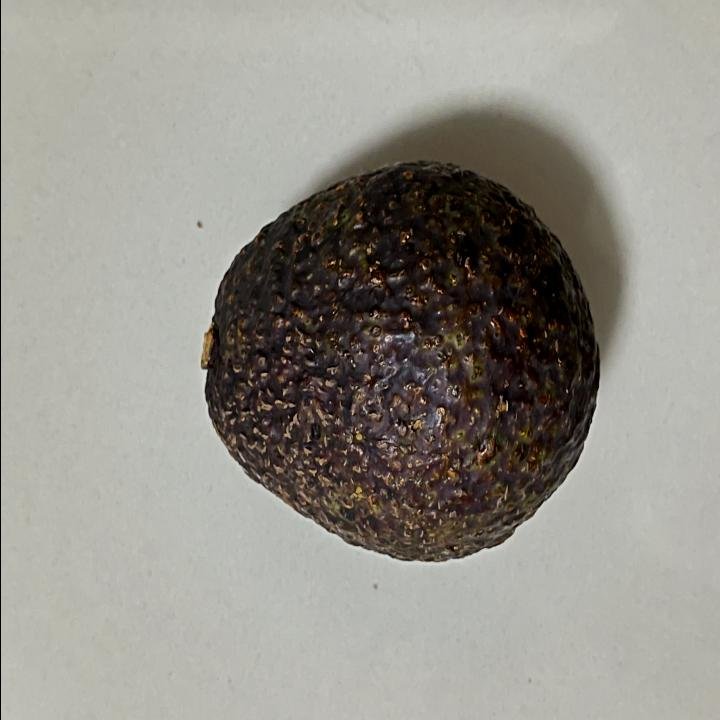Level2: (197, 150, 602, 568)
